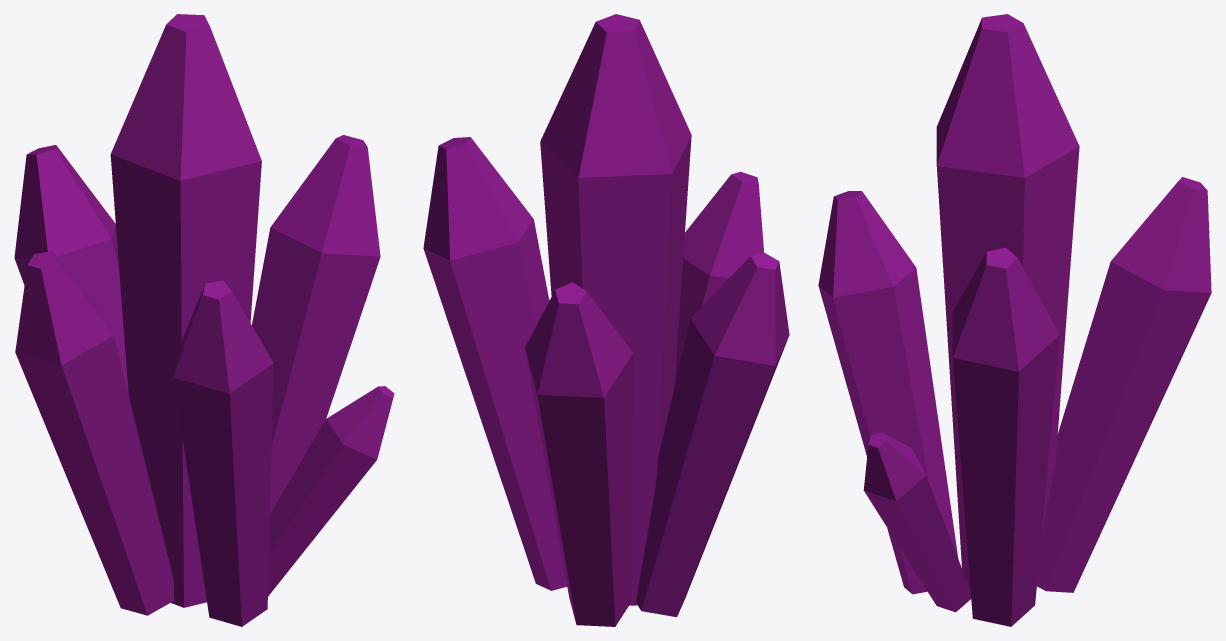
Rendered from spirit_attuned_crystal.obj.
The picture shows the model from 3 angles, left to right: view 1: azimuth 30°, elevation 25°; view 2: azimuth 150°, elevation 25°; view 3: azimuth 270°, elevation 25°; orthographic projection.
Parts seen in each view (by area): view 1: Crystal_Circle; view 2: Crystal_Circle; view 3: Crystal_Circle.
Part boxes in pixels (x1=…): Crystal_Circle: x1=14, y1=14, x2=394, y2=626; Crystal_Circle: x1=423, y1=14, x2=789, y2=626; Crystal_Circle: x1=818, y1=14, x2=1211, y2=626.
Size of the model in its own units: 0.3732 by 0.5844 by 0.3671.
